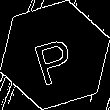P_N: (29, 25, 81, 85)
